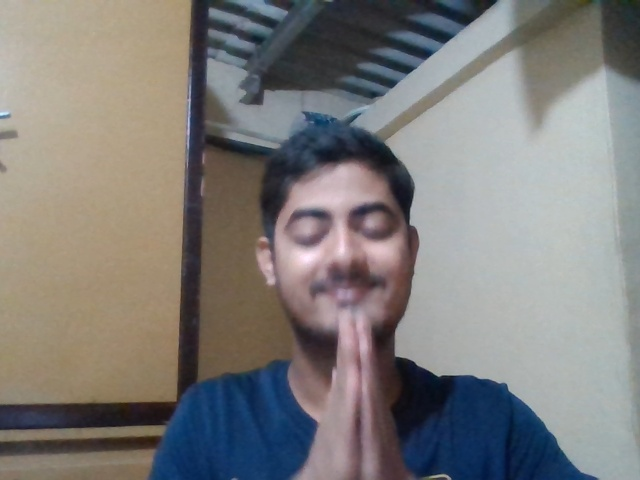ThankYou: (309, 310, 399, 480)
